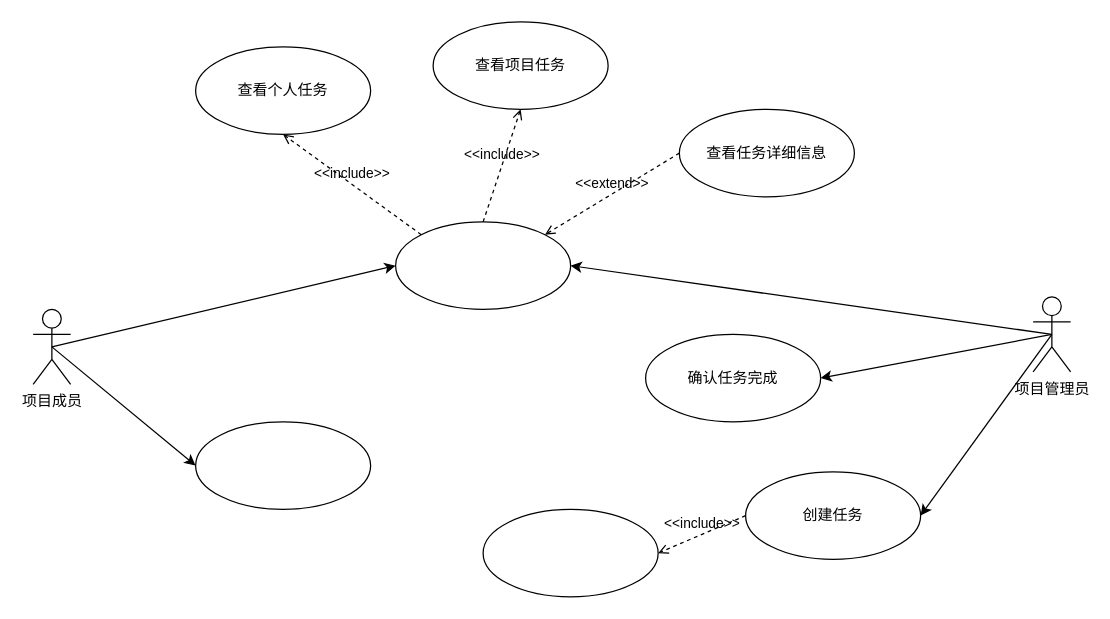
Image size: 1110x619. Some labels were removed from this diagram. The centre of each missing label's shape, as x and y in pixels:
"分配任务" goes at point (570, 552).
"提出完成任务申请" goes at point (282, 465).
"查看任务" goes at point (482, 265).
